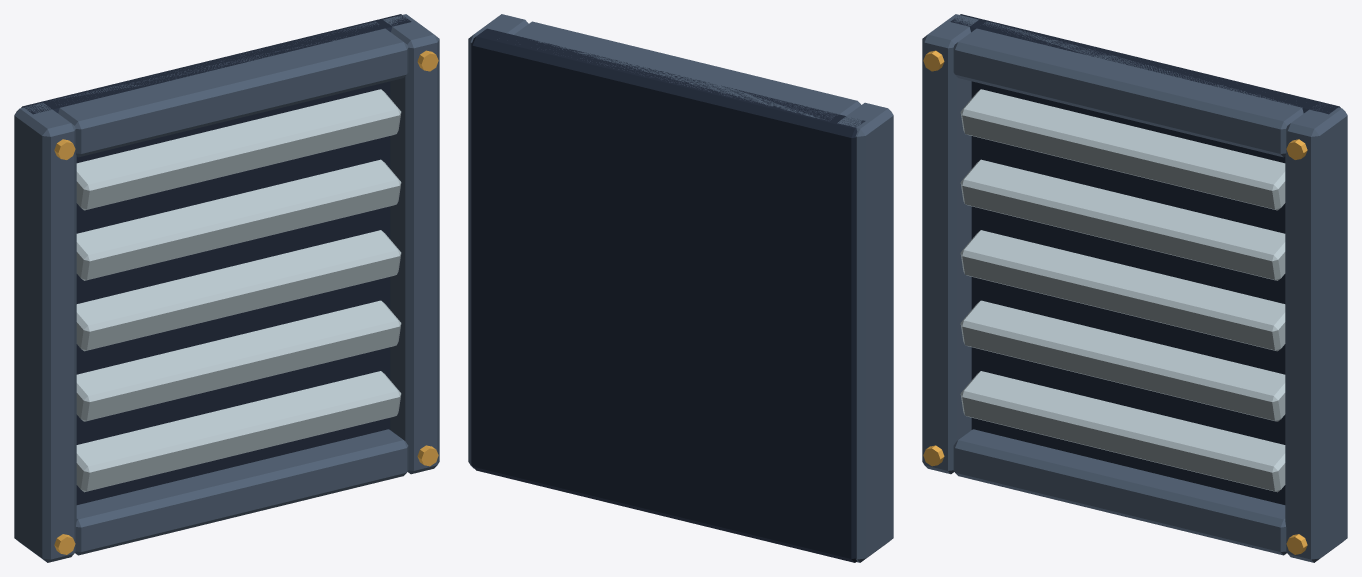
File: 06_Service_Vent.glb
The picture shows the model from 3 angles, left to right: view 1: azimuth 30°, elevation 25°; view 2: azimuth 150°, elevation 25°; view 3: azimuth 330°, elevation 25°; orthographic projection.
Visible parts, largest first — view 1: 06_Service_Vent__Body; view 2: 06_Service_Vent__Body; view 3: 06_Service_Vent__Body.
Boxes of the visible parts, <box> form: 06_Service_Vent__Body: <box>14,14,439,562</box>; 06_Service_Vent__Body: <box>468,14,893,562</box>; 06_Service_Vent__Body: <box>922,14,1347,562</box>.
Size of the model in its own units: 2.54 by 2.65 by 0.4485.
1 material, 1 textured.
